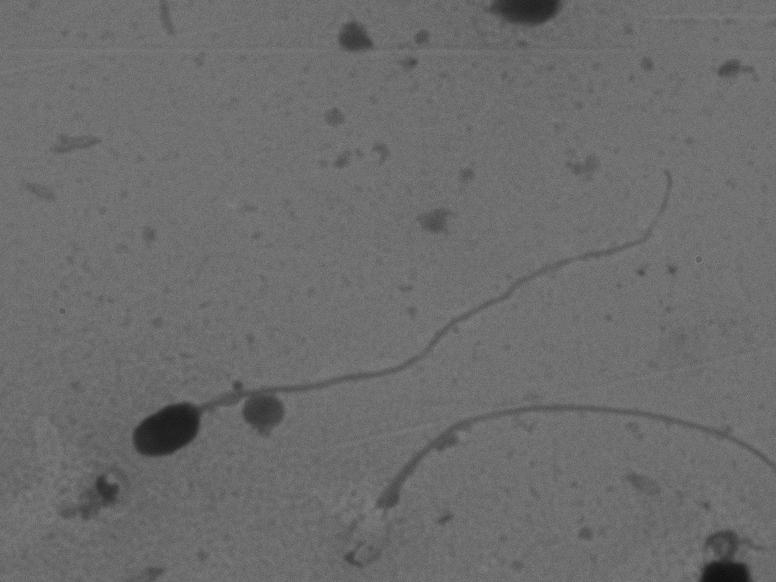Abnormal: (111, 150, 701, 481), (319, 391, 770, 573)
